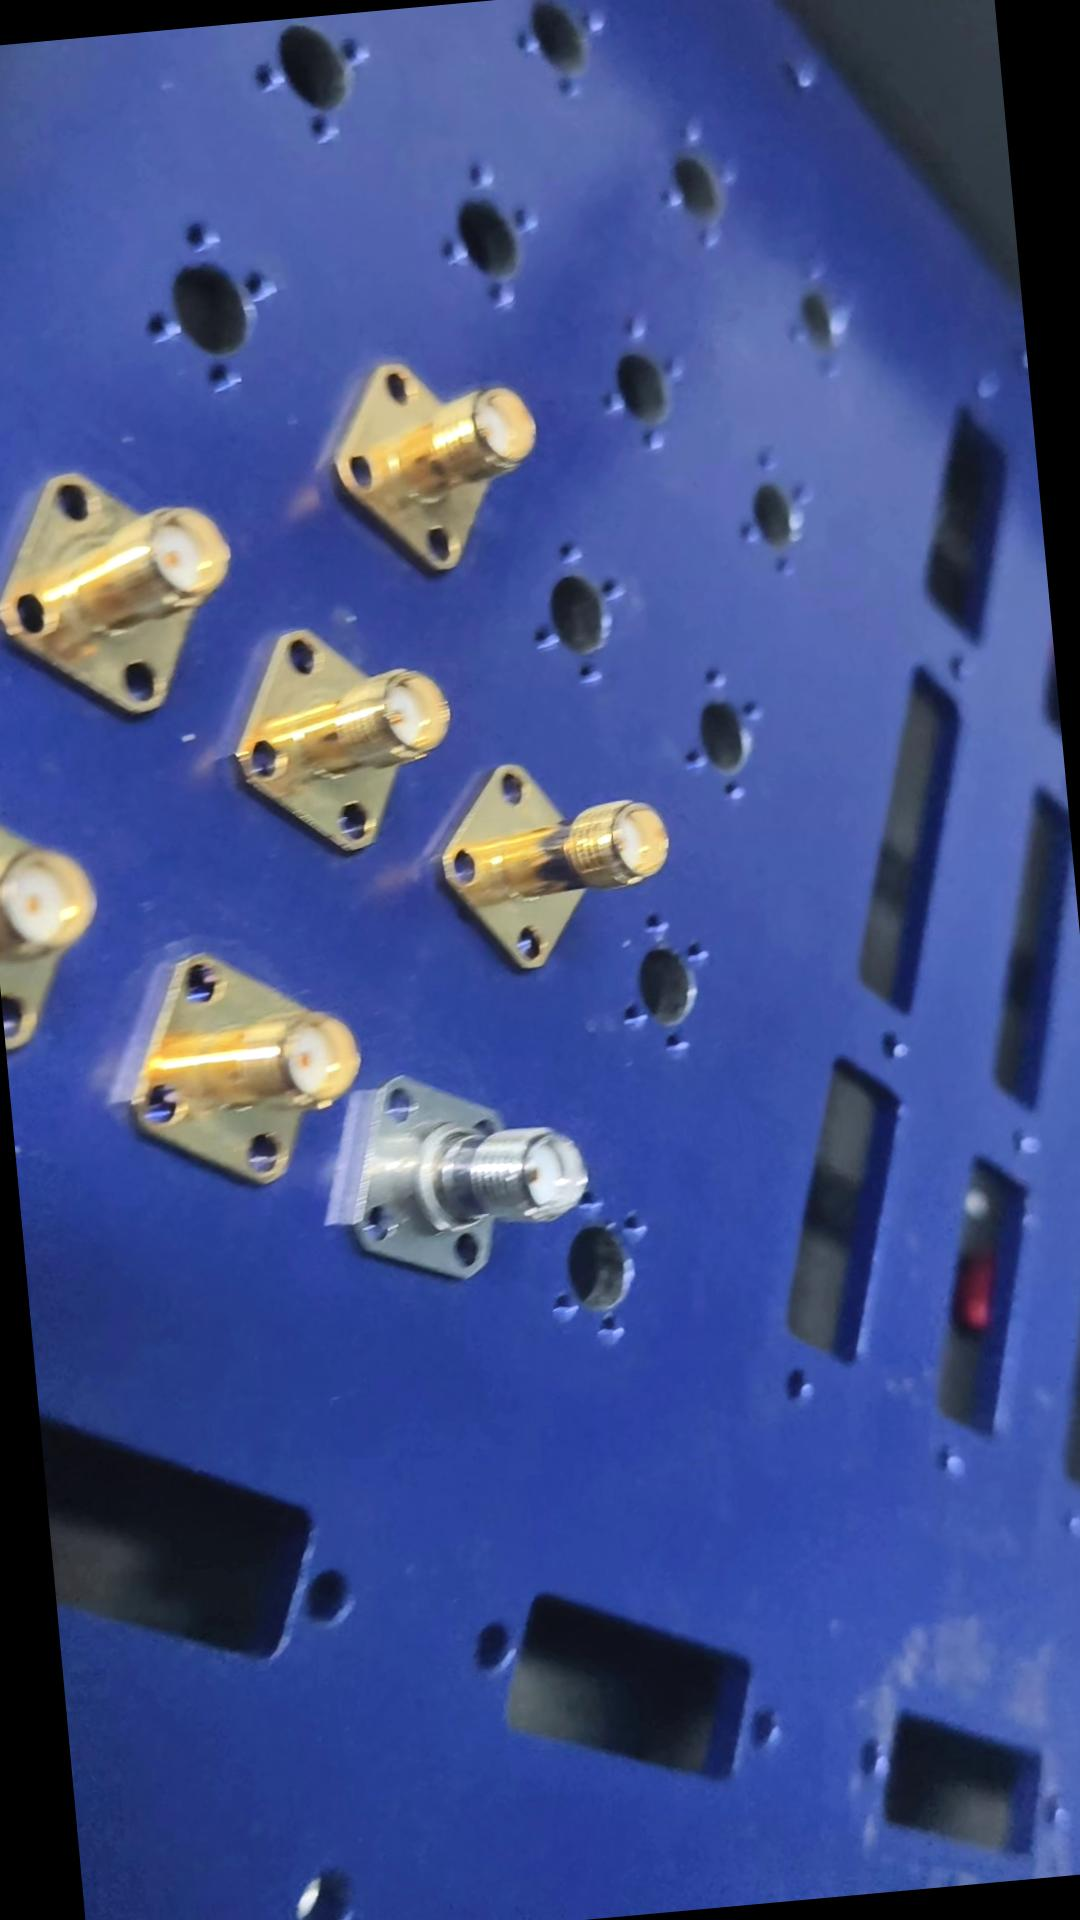SMA: (322, 1033, 599, 1291), (127, 934, 381, 1212), (434, 713, 676, 981), (322, 326, 553, 584), (229, 613, 464, 862)
